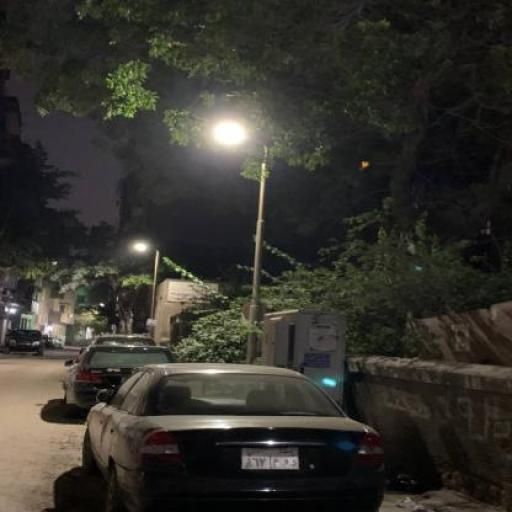street light: (212, 121, 269, 388), (133, 242, 159, 340)
